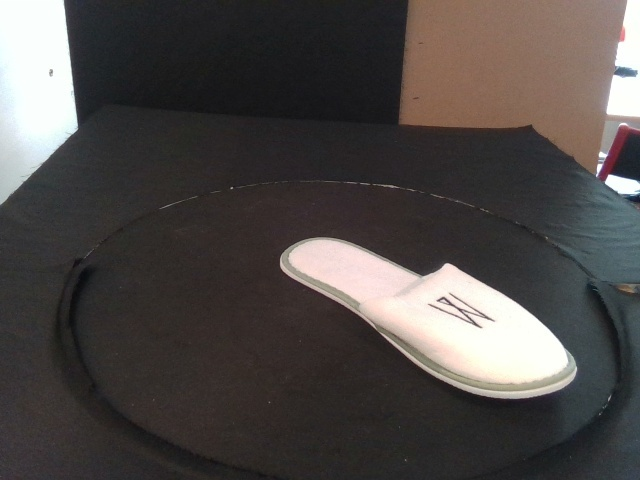shoe: (279, 235, 579, 399)
